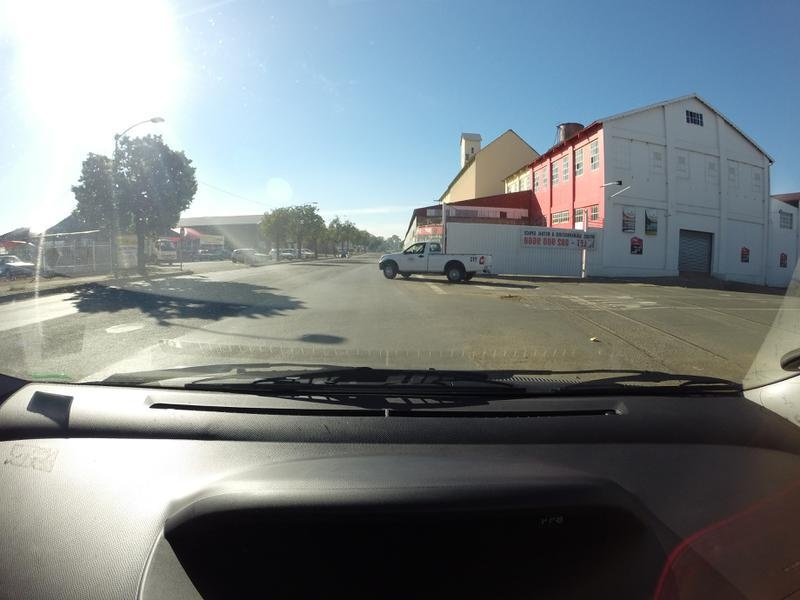pothole: (495, 294, 522, 301)
